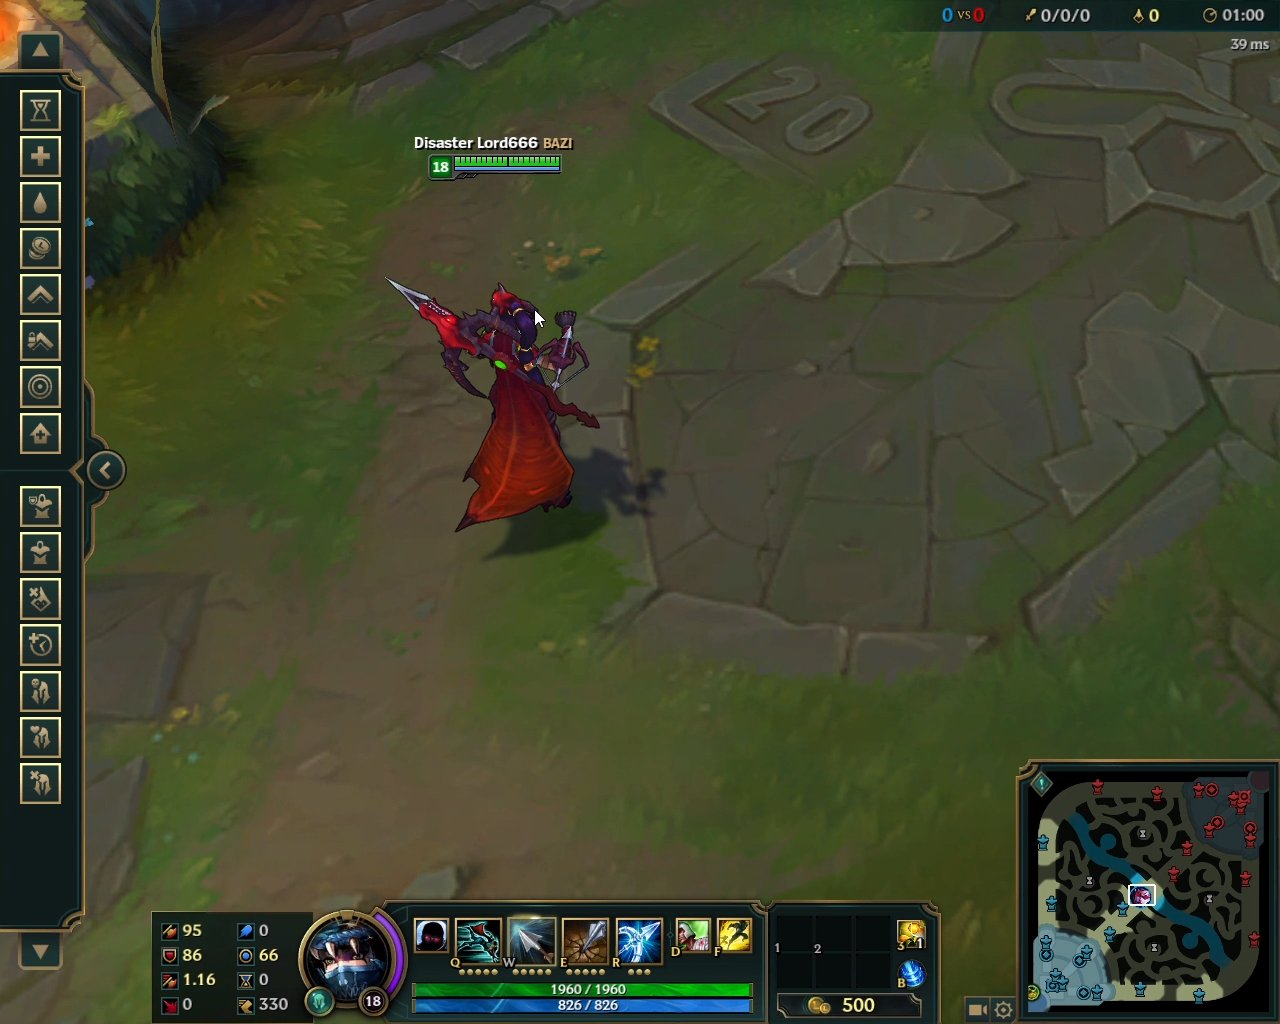Vayne: (385, 267, 608, 551)
